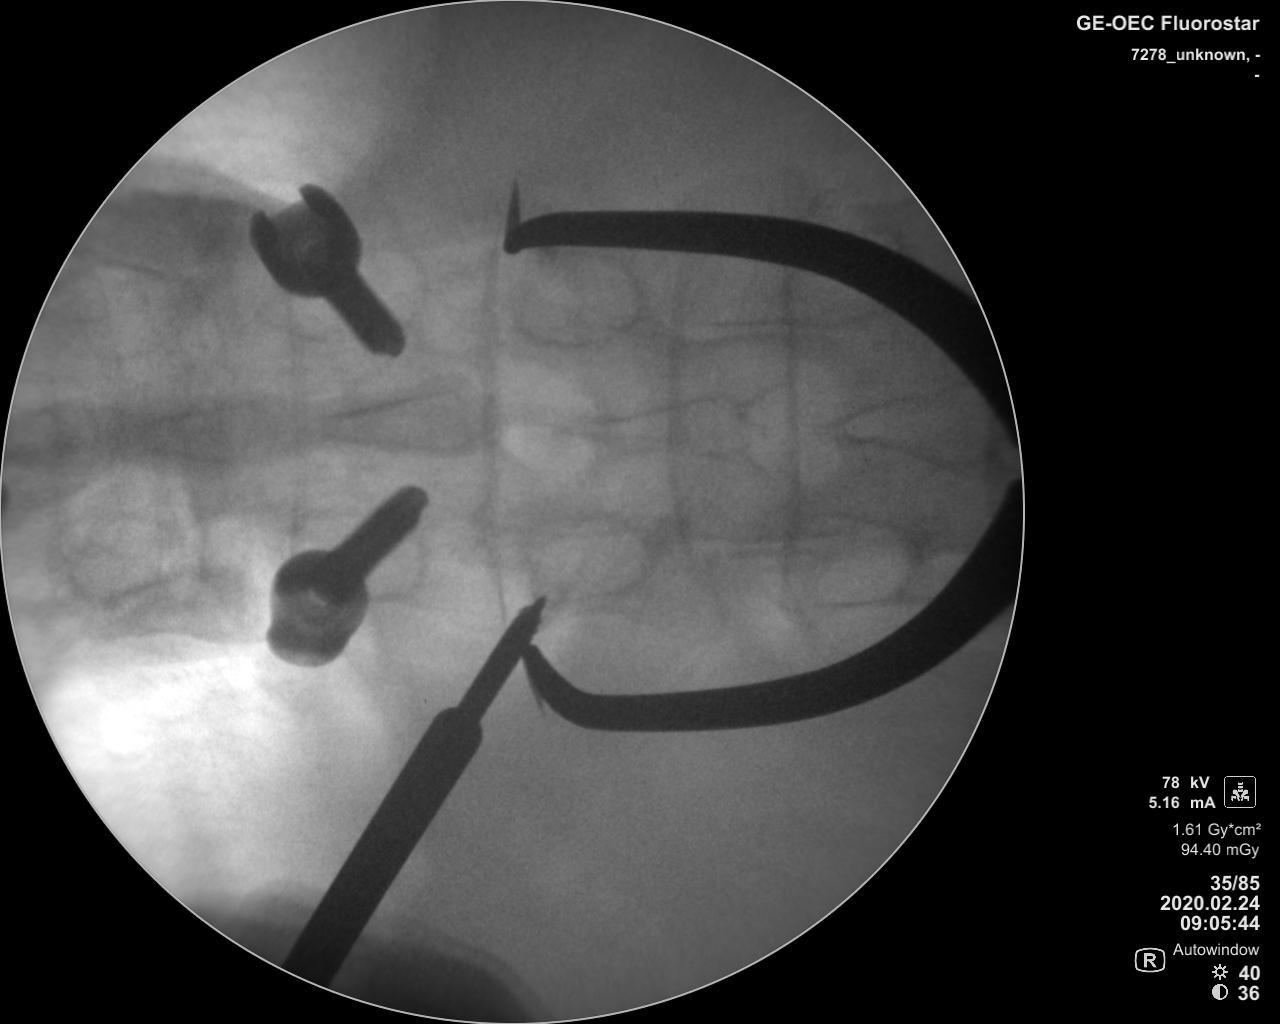eyes: (283, 243, 428, 338), (507, 250, 644, 345), (304, 501, 432, 601), (785, 509, 917, 605), (525, 510, 649, 601)
line: (476, 239, 508, 623), (772, 269, 804, 599), (664, 257, 695, 567), (273, 303, 311, 546)
nose: (308, 378, 497, 455), (129, 392, 317, 466), (827, 391, 999, 468), (552, 391, 754, 456), (7, 399, 130, 478)
